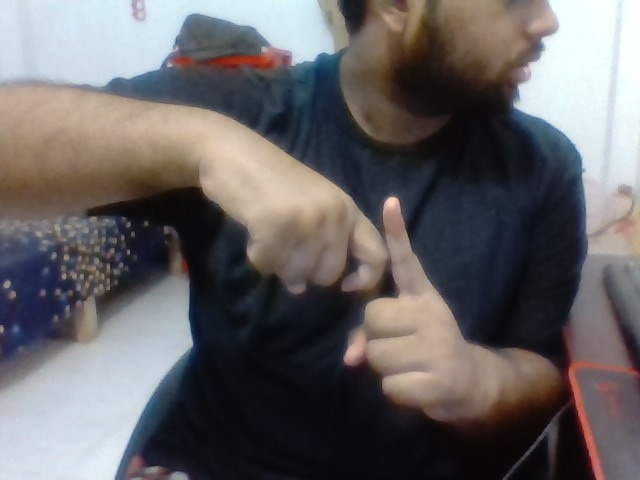K: (193, 97, 494, 446)
